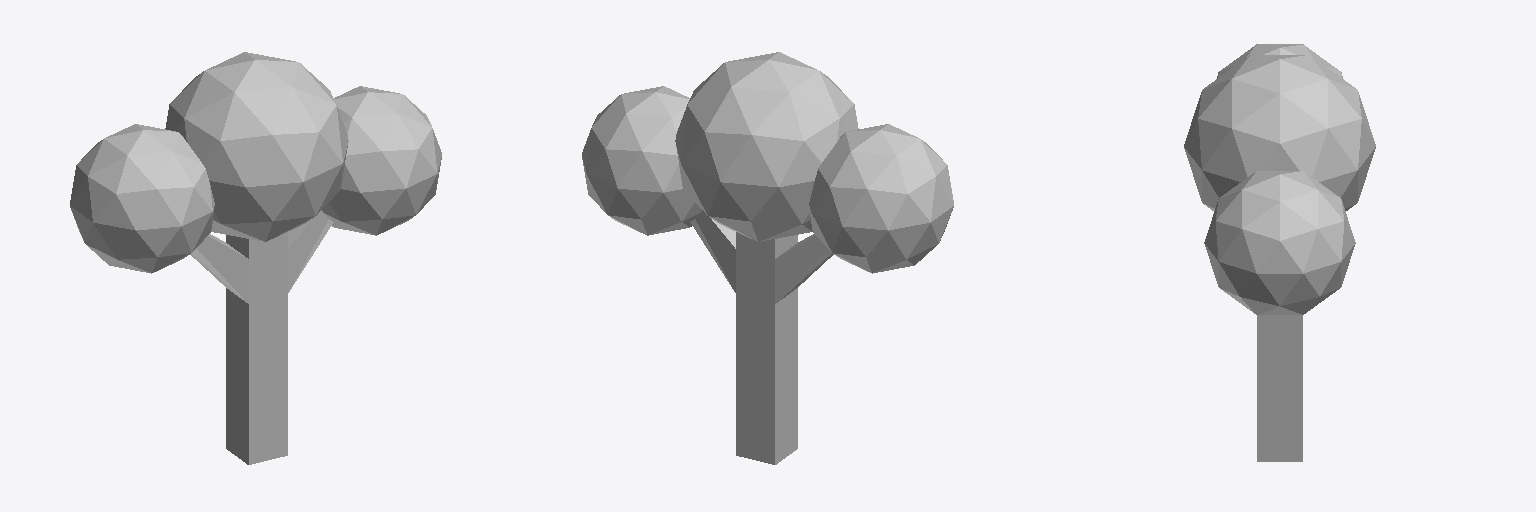
The model's file is Broccoli.obj.
3 views of the same model, side by side, from view 1: azimuth 30°, elevation 25°; view 2: azimuth 150°, elevation 25°; view 3: azimuth 270°, elevation 25° (orthographic).
Visible parts, largest first — view 1: Icosphere.002; view 2: Icosphere.002; view 3: Icosphere.002.
Part boxes in pixels (bbox=[...]): Icosphere.002: bbox=[70, 52, 441, 464]; Icosphere.002: bbox=[582, 52, 953, 464]; Icosphere.002: bbox=[1184, 44, 1375, 461].
Size of the model in its own units: 4.26 by 4.57 by 2.03.